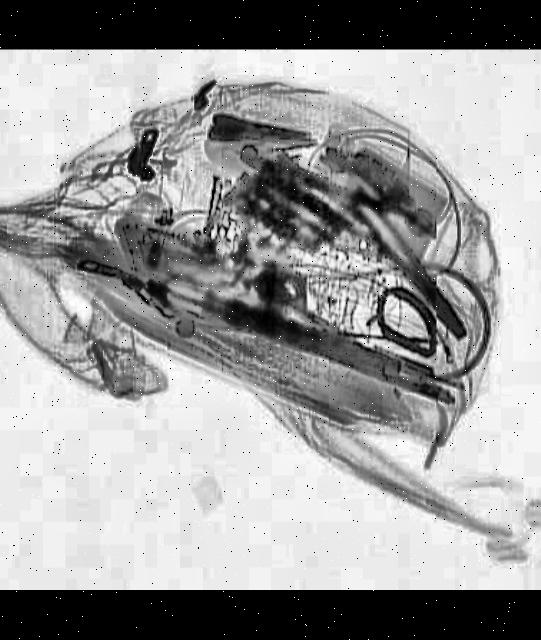Pliers: (334, 184, 475, 349)
